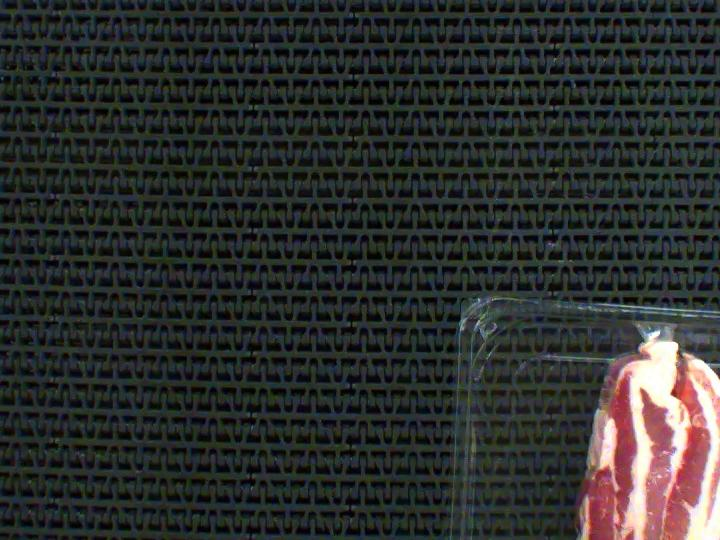packaging-error: (617, 283, 708, 384)
